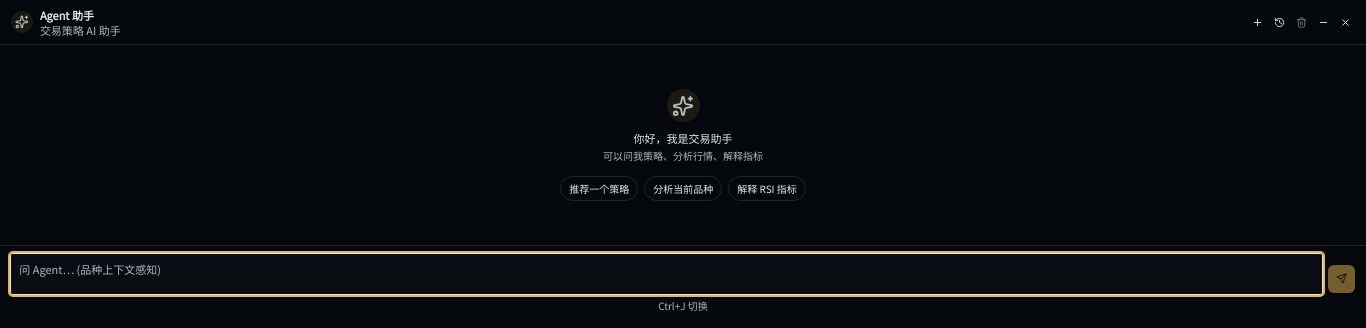
Test: AgentChatPanel — B0 工具确认门 UI(后端强制,模型不可自签) › 对照:本轮不产生审批事件 → 不渲染确认卡
This screenshot has width=1366, height=328.
Type "帮我买一手 BTC" into the text box with placeholder "问 Agent… (品种上下文感知)" at {"x": 666, "y": 274}, box [11,254,1322,294]
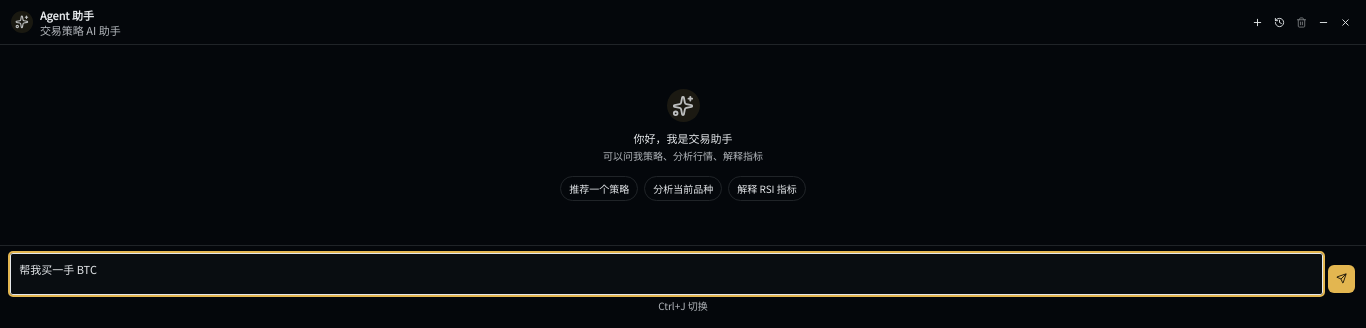
Press Enter in the text box with placeholder "问 Agent… (品种上下文感知)", box [11,254,1322,294]
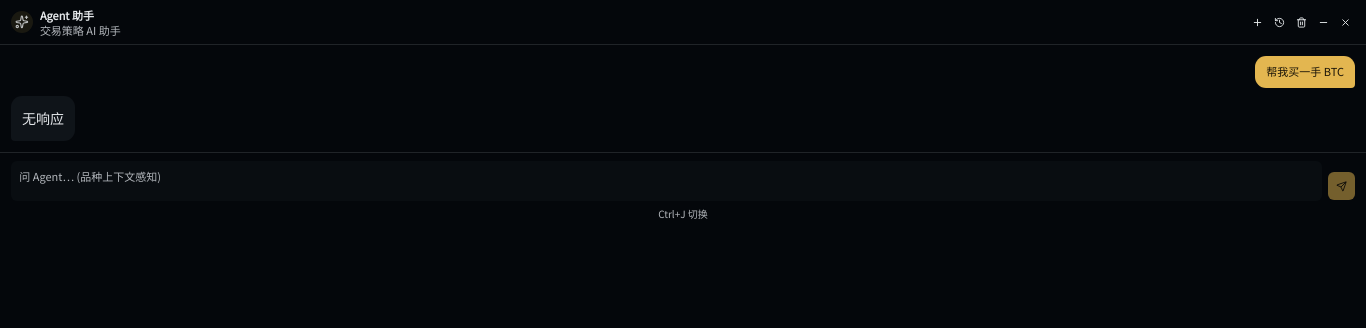
Result: the text "无响应" is shown at [22,107,64,130]
